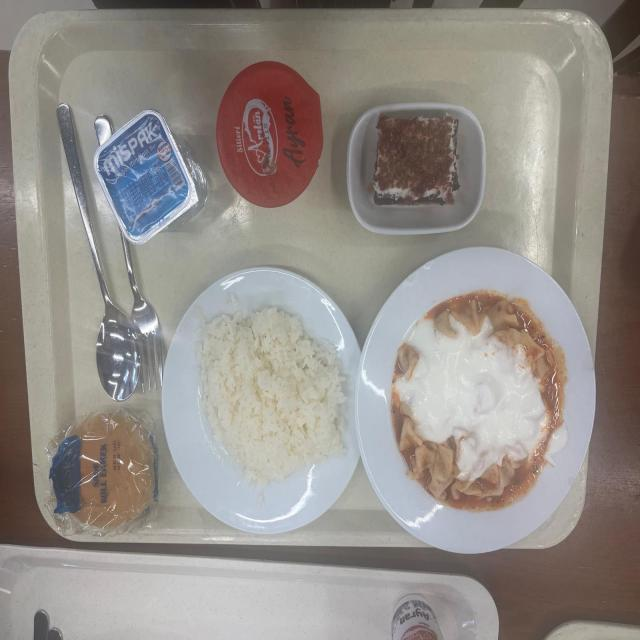ana_yemek: (358, 248, 597, 552), (161, 268, 351, 533)
yan_yemek: (345, 104, 476, 235)
